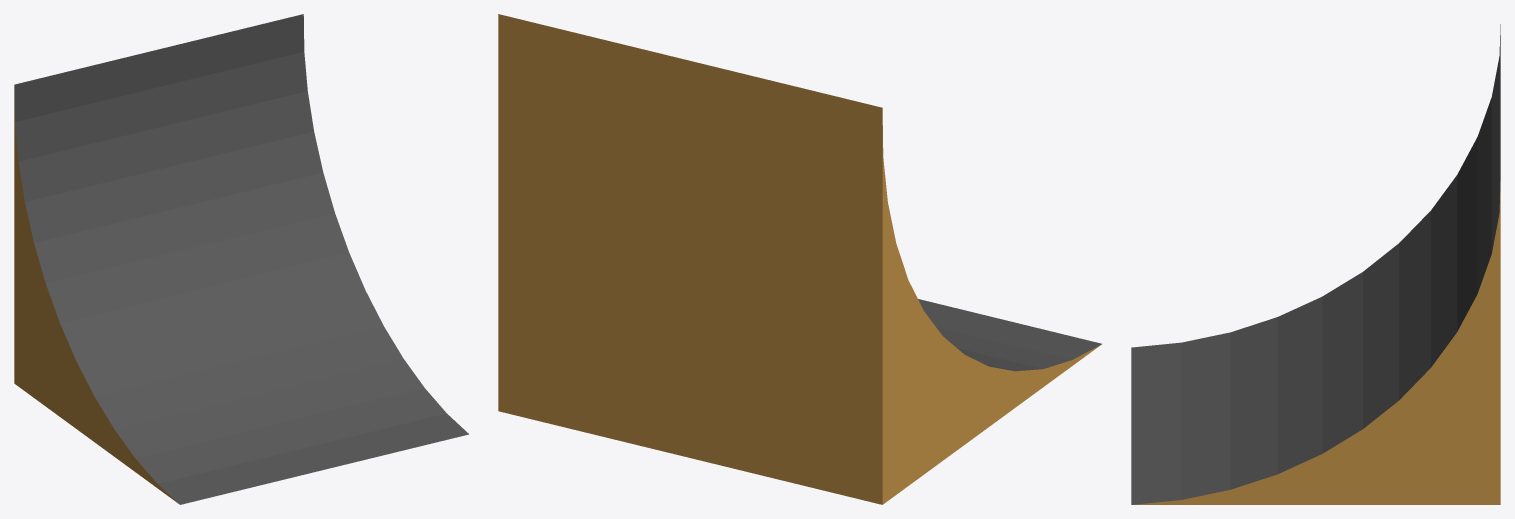
Rendered from Skate_Quarter_Pipe_01.FBX.
3 renders of one model, left to right at view 1: azimuth 30°, elevation 25°; view 2: azimuth 150°, elevation 25°; view 3: azimuth 270°, elevation 25°, orthographic. The views are drawn at different scales.
Parts seen in each view (by area): view 1: Skate_Quarter_Pipe_01; view 2: Skate_Quarter_Pipe_01; view 3: Skate_Quarter_Pipe_01.
Part boxes in pixels (<box>): Skate_Quarter_Pipe_01: <box>14,14,468,504</box>; Skate_Quarter_Pipe_01: <box>498,14,1101,504</box>; Skate_Quarter_Pipe_01: <box>1131,24,1500,504</box>.
Bounding box in the file's own units: 3000 × 2964 × 2976.
